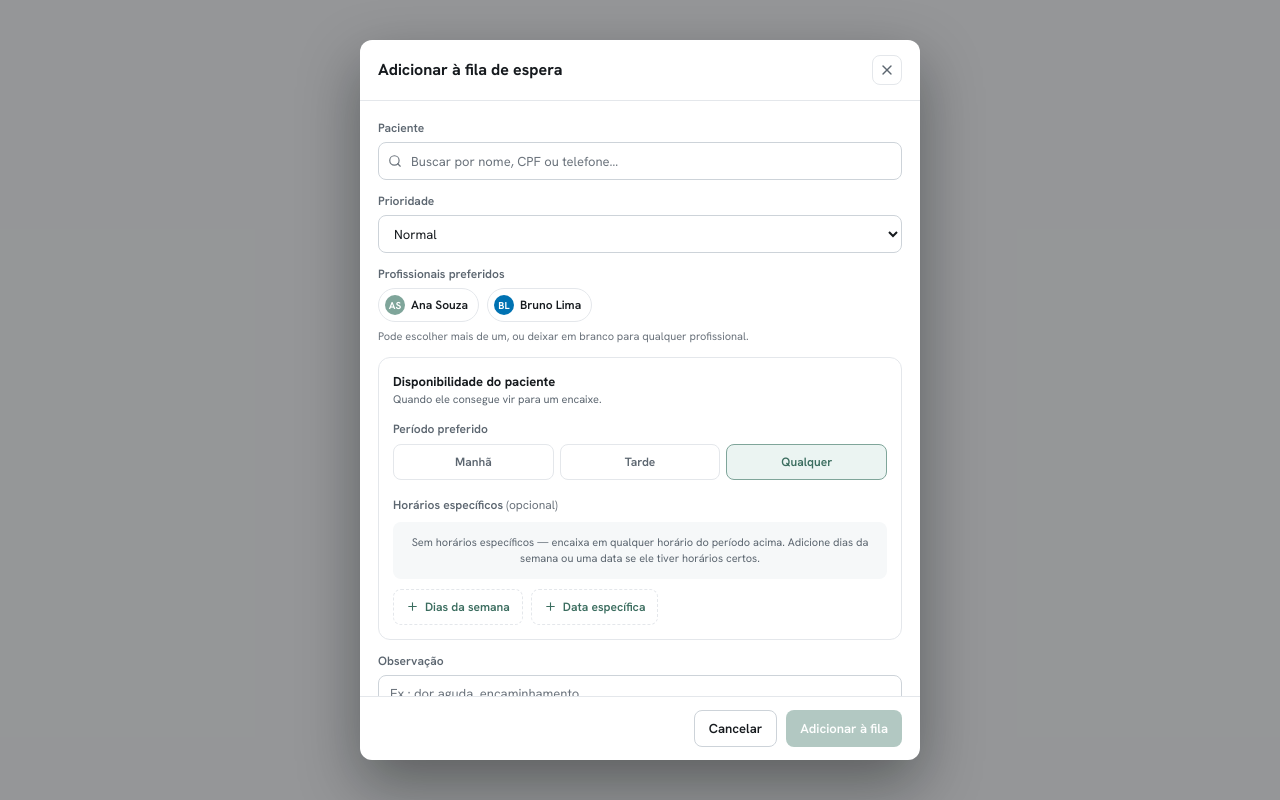
Test case: AddToWaitlistModal — adicionar › adicionar "Dias da semana" cria um card e serializa a regra no hidden
The width and height of the screenshot is (1280, 800).
Click the button "Dias da semana".
click(458, 606)  # box 393,588 -> 523,624
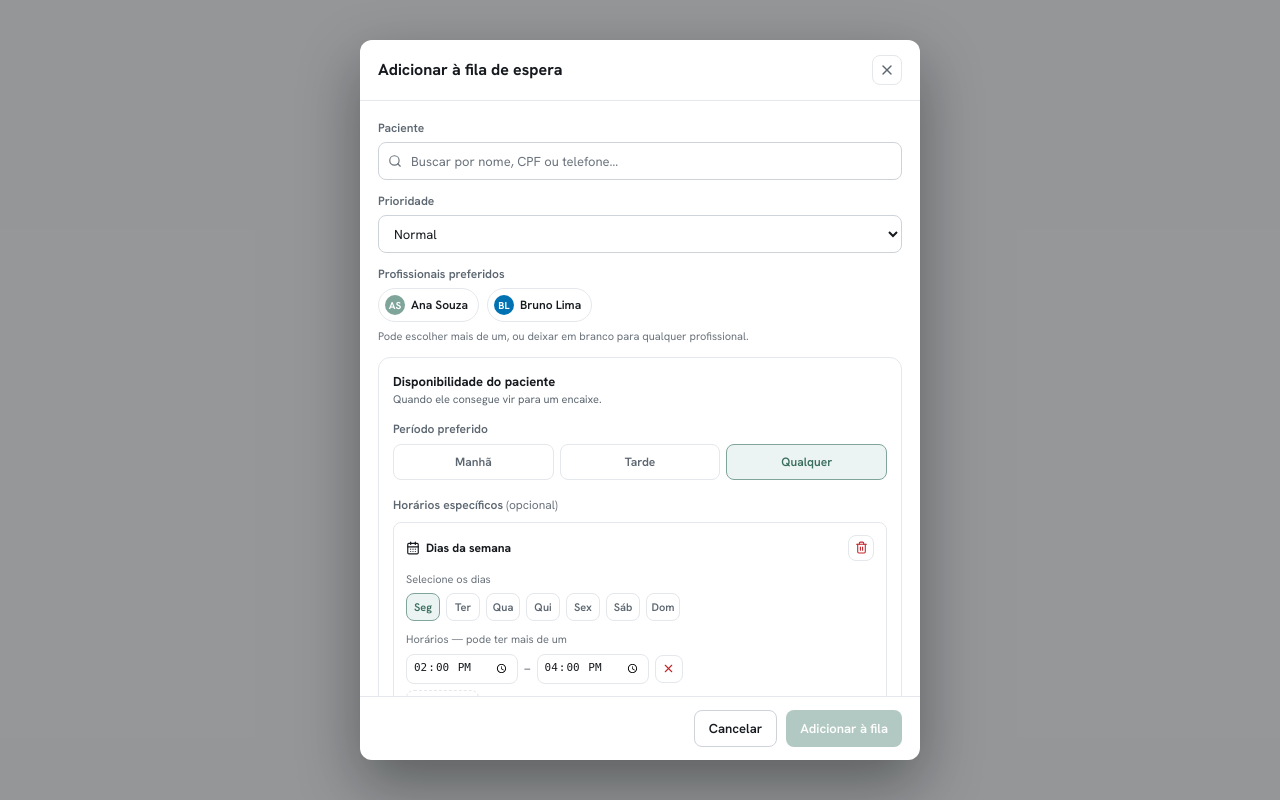
expect the button named "Remover regra 1" is shown: met, box 848,534 -> 874,560
